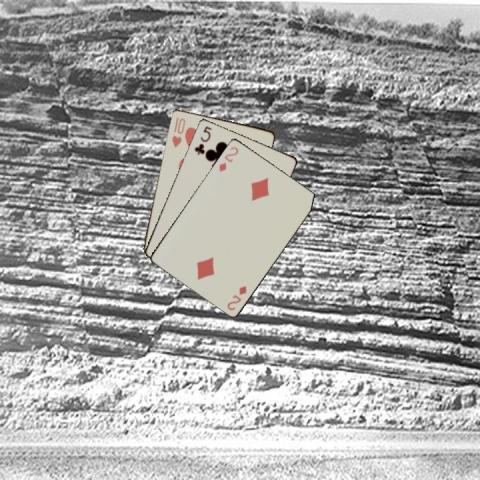10h: (168, 114, 186, 149)
2d: (216, 143, 240, 173), (224, 283, 248, 311)
5c: (192, 123, 214, 156)
